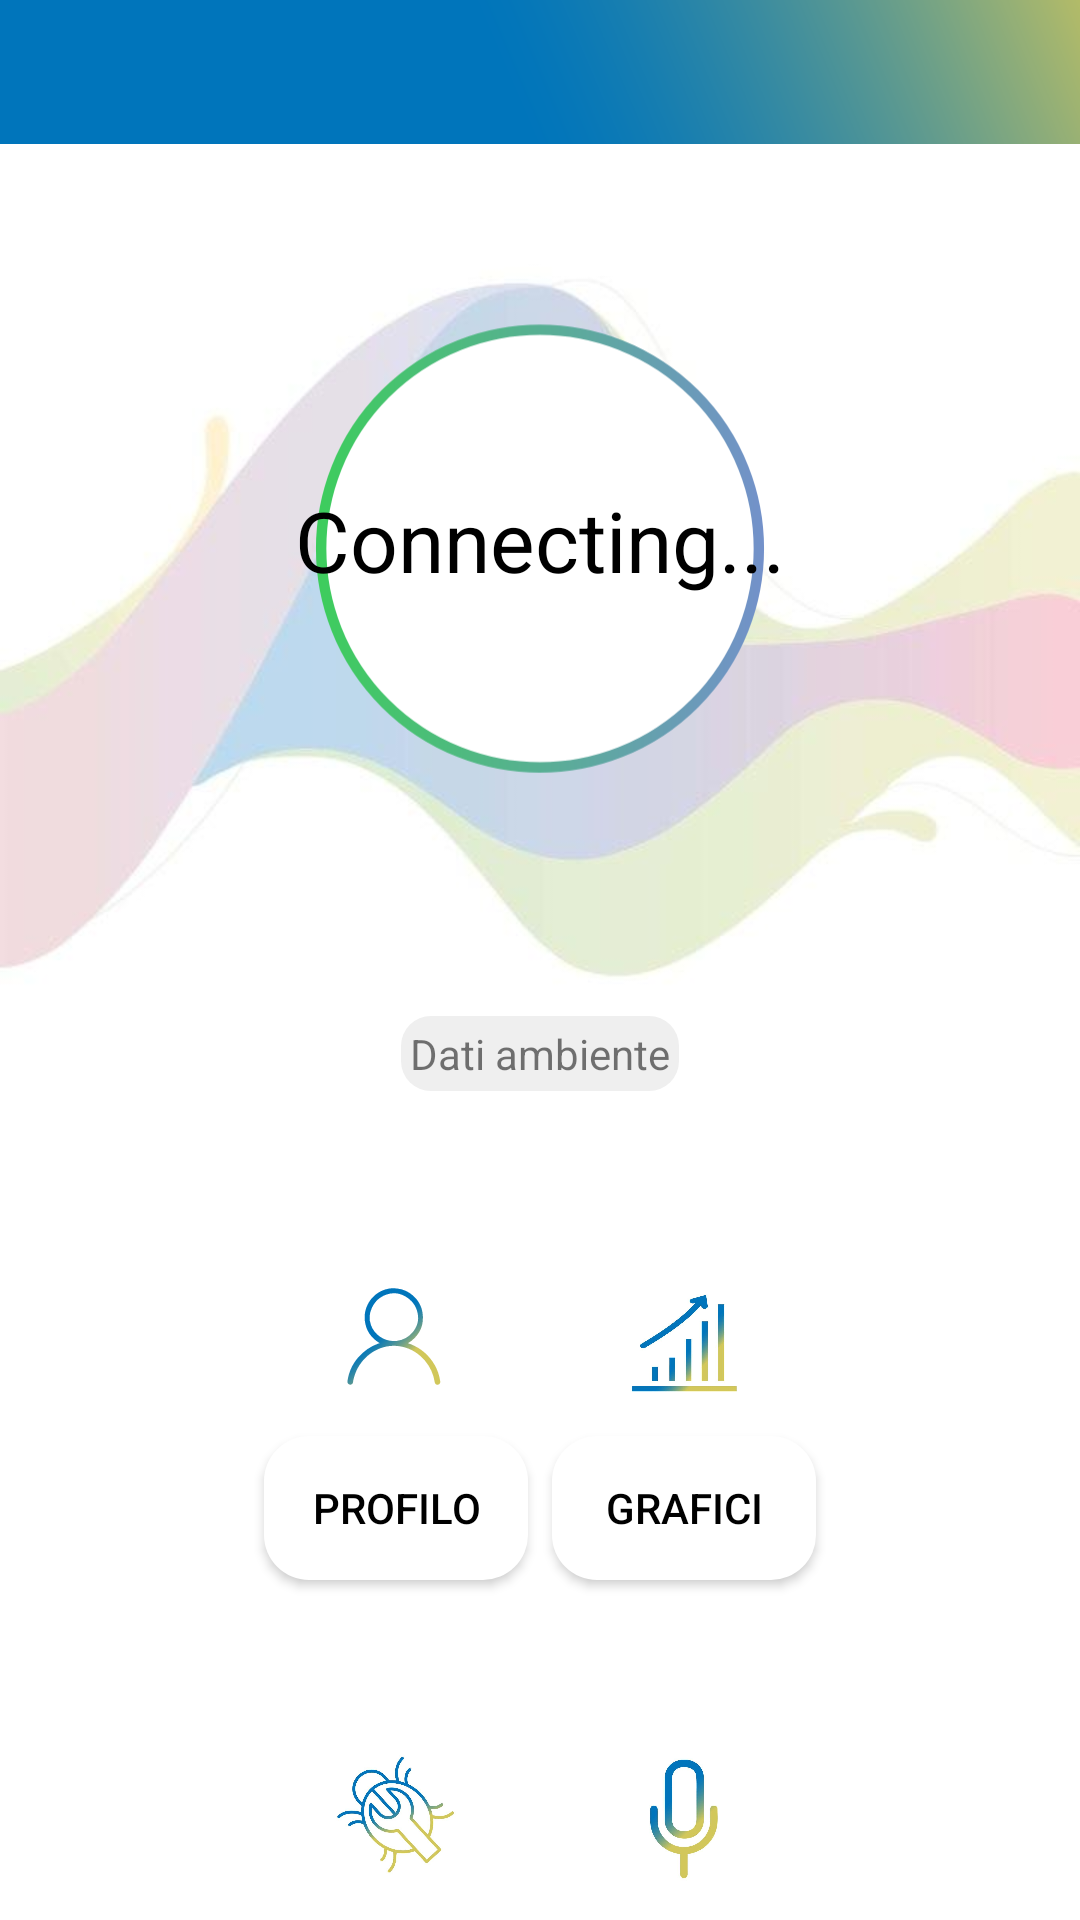

Named icons in this screenshot (1080×1920) and their bounding boxes, (x1, y1, x2, y2):
sound graph: (632, 1295, 737, 1392)
